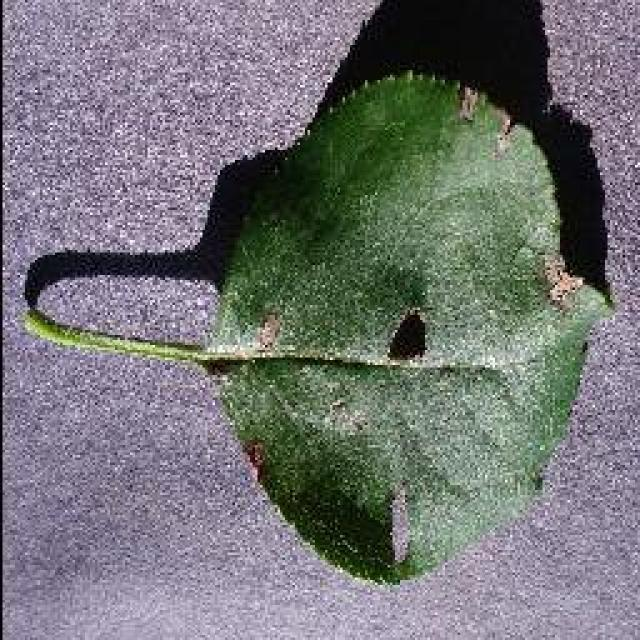Black_rot: (23, 65, 615, 587)
